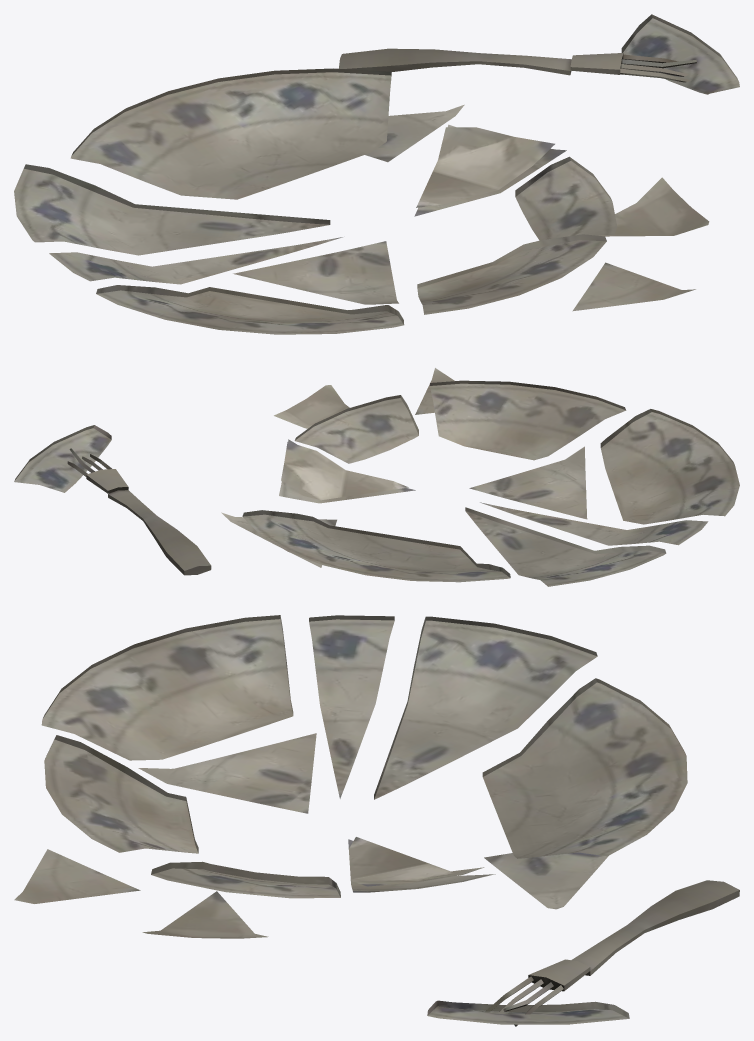
Rendered from dressing_plate_broken.glb.
3 views of the same model, one above another, from view 1: azimuth 30°, elevation 25°; view 2: azimuth 150°, elevation 25°; view 3: azimuth 270°, elevation 25° (orthographic). The views are drawn at different scales.
Visible parts, largest first — view 1: dressing_plate_broken; view 2: dressing_plate_broken; view 3: dressing_plate_broken.
Part boxes in pixels (box(x1,y1,x2,y2)): dressing_plate_broken: box(14, 14, 739, 334); dressing_plate_broken: box(14, 368, 739, 586); dressing_plate_broken: box(14, 615, 739, 1026).
Size of the model in its own units: 0.4167 by 0.0216 by 0.3292.
Materials: 1 (1 with a texture image).
